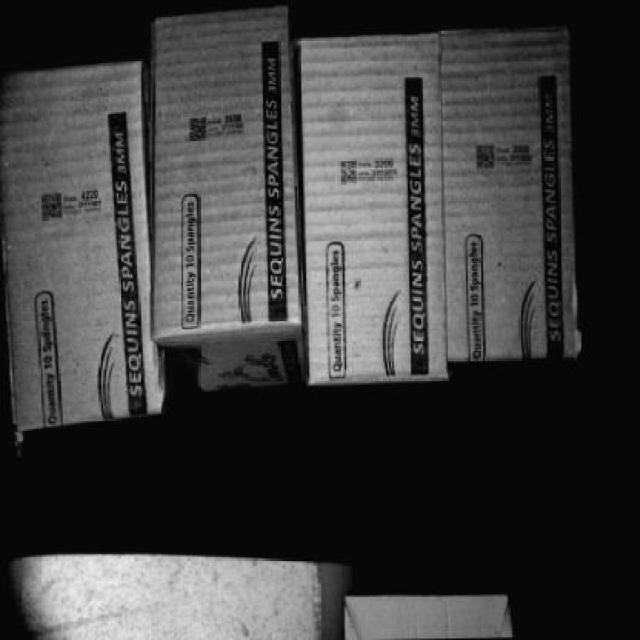cardboxes: (0, 72, 157, 420), (296, 35, 442, 378), (160, 9, 305, 338), (442, 21, 576, 368)
